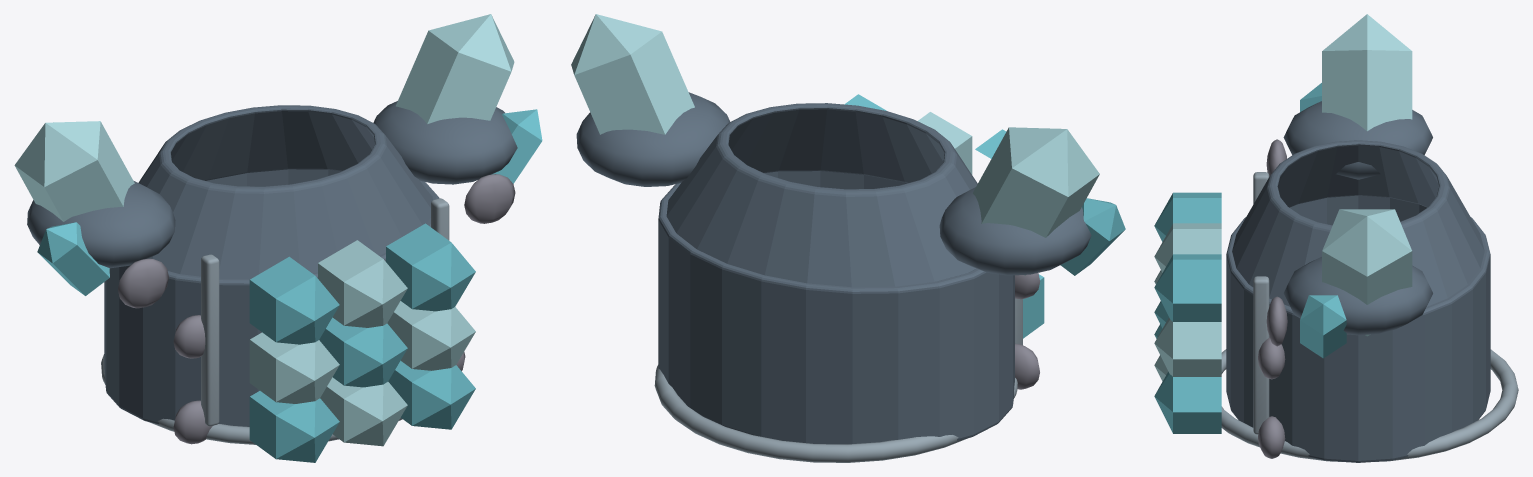
Rendered from crystalmail.glb.
3 renders of one model, left to right at view 1: azimuth 30°, elevation 25°; view 2: azimuth 150°, elevation 25°; view 3: azimuth 270°, elevation 25°, orthographic. The views are drawn at different scales.
Parts seen in each view (by area): view 1: _box, _crystal_chest_scale, _crystal_pauldron, _crystal_pauldron.001, _stone_crystal_anchor; view 2: _box, _crystal_pauldron, _crystal_pauldron.001, _crystal_chest_scale, _stone_crystal_anchor; view 3: _box, _crystal_chest_scale, _crystal_pauldron.001, _crystal_pauldron, _stone_crystal_anchor.
Part boxes in pixels (x1,y1,x2,y2): _box: (27, 101, 517, 444); _crystal_chest_scale: (249, 223, 475, 462); _crystal_pauldron: (14, 121, 134, 295); _crystal_pauldron.001: (396, 14, 542, 183); _stone_crystal_anchor: (118, 174, 515, 444); _box: (576, 92, 1091, 462); _crystal_pauldron: (973, 127, 1125, 275); _crystal_pauldron.001: (571, 14, 694, 134); _crystal_chest_scale: (844, 94, 1044, 338); _stone_crystal_anchor: (1015, 273, 1040, 389); _box: (1221, 101, 1518, 462); _crystal_chest_scale: (1154, 192, 1221, 433); _crystal_pauldron.001: (1300, 209, 1412, 358); _crystal_pauldron: (1300, 14, 1412, 131); _stone_crystal_anchor: (1258, 139, 1287, 458).
Bounding box in the file's own units: 0.9127 × 0.5381 × 0.623.
